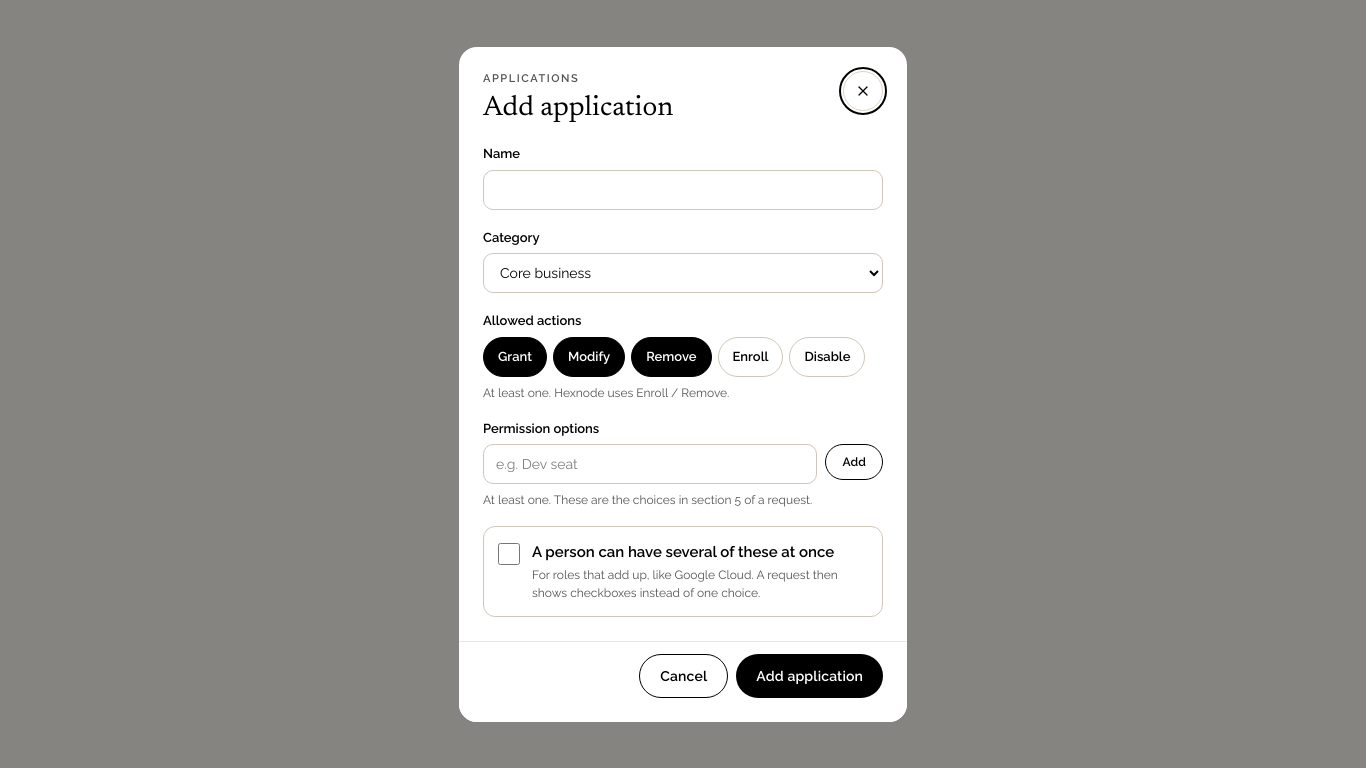
AppSheet › a refusal from the database is shown
Type "figma" into the field labelled "Name". click: (683, 190)
box: [483,170,883,210]
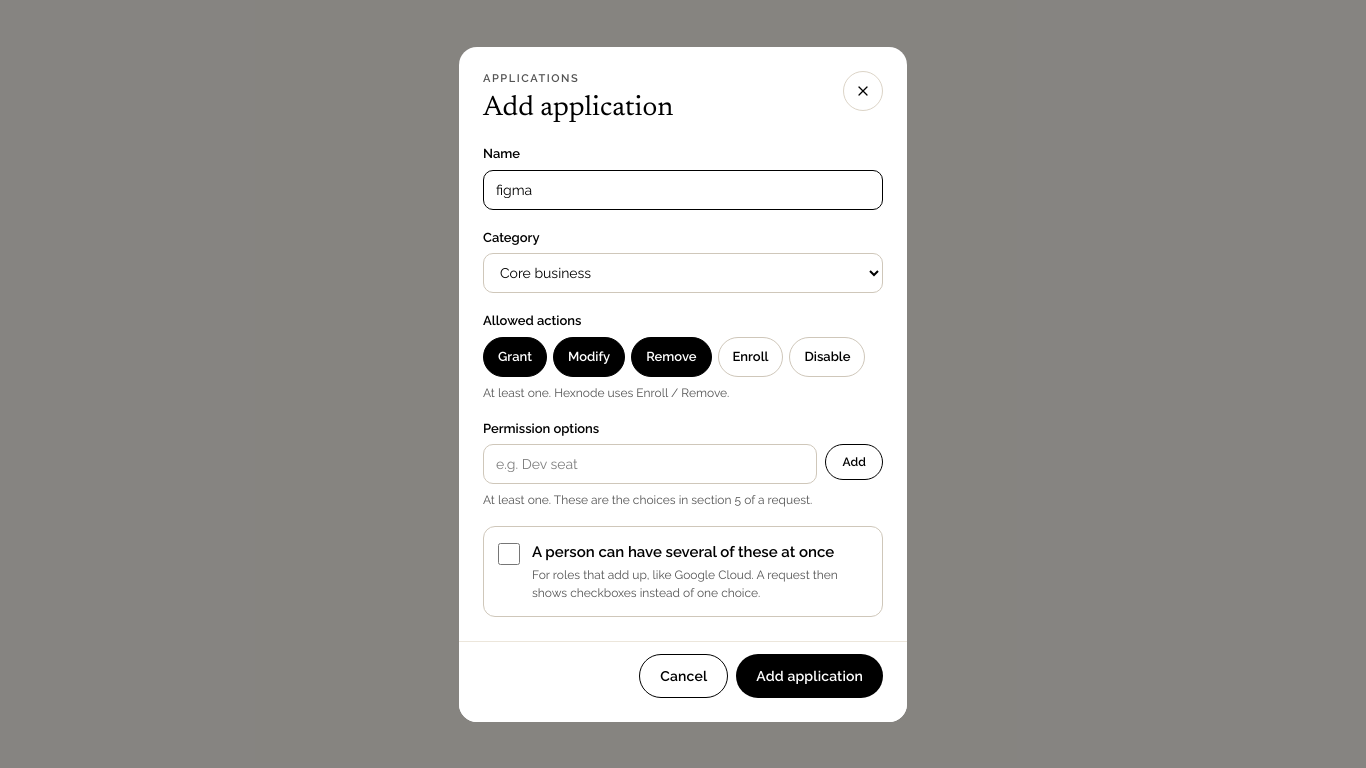
Click the button "Add application". click: click(810, 676)
box: [736,654,883,698]
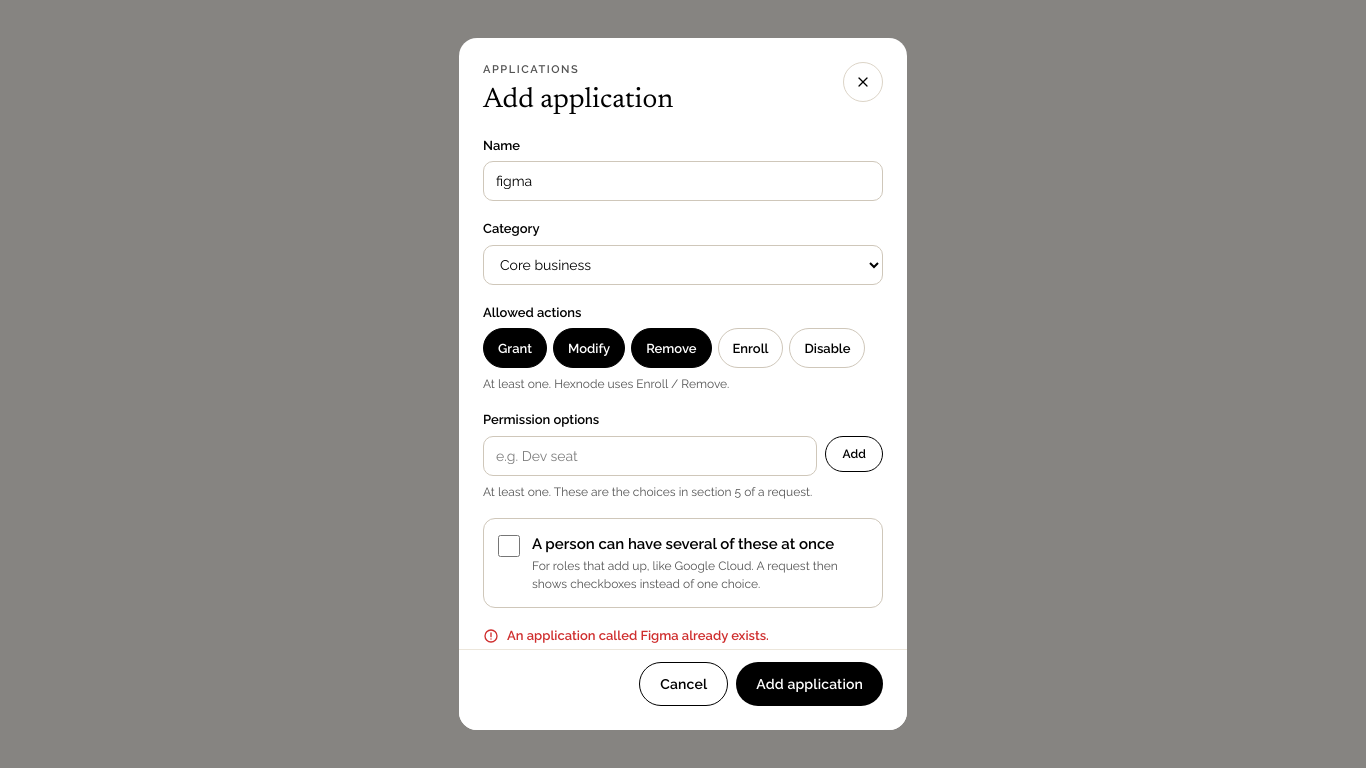
Expected: the message reads "An application called Figma already exists.", [507,628,769,643]
